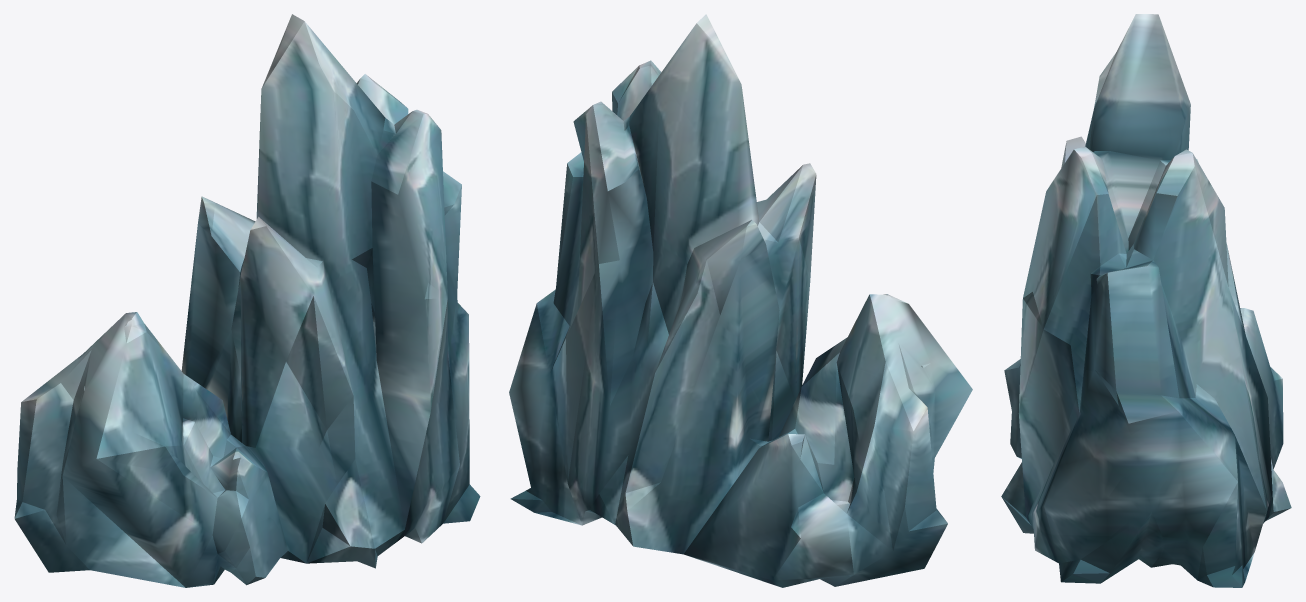
The model's file is NAT_Crystal3_lod.glb.
3 renders of one model, left to right at view 1: azimuth 30°, elevation 25°; view 2: azimuth 150°, elevation 25°; view 3: azimuth 270°, elevation 25°, orthographic. The views are drawn at different scales.
Visible parts, largest first — view 1: Object_2; view 2: Object_2; view 3: Object_2.
Part boxes in pixels (left/top/right/bottom): Object_2: left=14, top=14, right=480, bottom=587; Object_2: left=509, top=14, right=972, bottom=587; Object_2: left=1001, top=14, right=1291, bottom=587.
Bounding box in the file's own units: 0.8741 × 0.9978 × 0.5079.
Materials: 1 (1 with a texture image).
